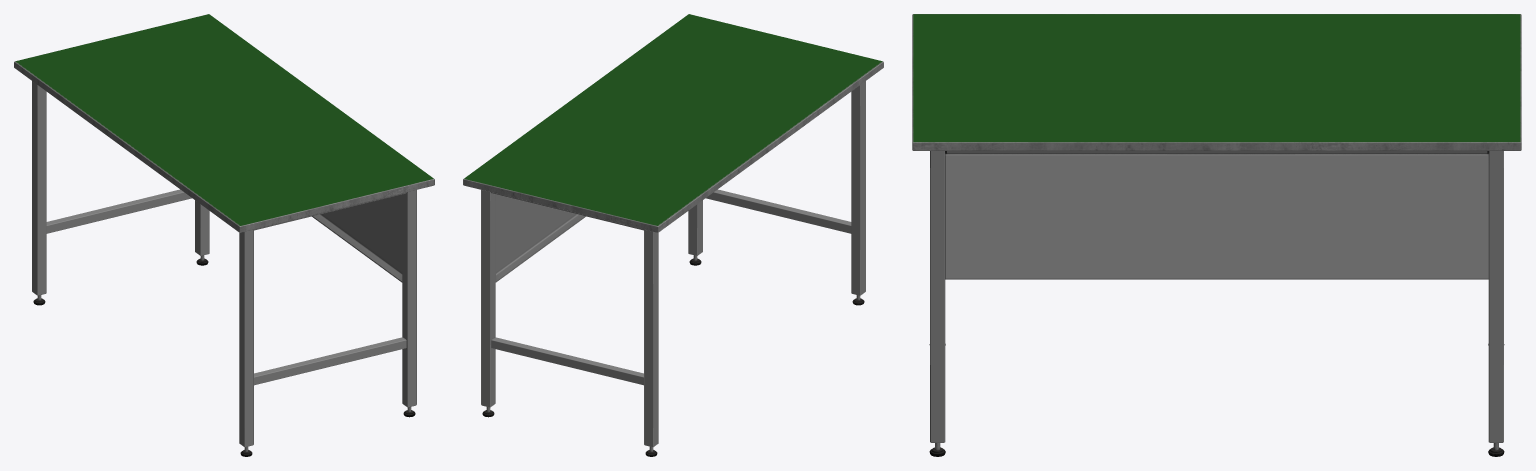
The model's file is SM_Workdesk_01_1200mm.fbx.
The picture shows the model from 3 angles, left to right: view 1: azimuth 30°, elevation 25°; view 2: azimuth 150°, elevation 25°; view 3: azimuth 270°, elevation 25°; orthographic projection. The views are drawn at different scales.
Parts seen in each view (by area): view 1: SM_Workdesk_01_1200mm_LOD0; view 2: SM_Workdesk_01_1200mm_LOD0; view 3: SM_Workdesk_01_1200mm_LOD0.
Part boxes in pixels (x1,y1,x2,y2): SM_Workdesk_01_1200mm_LOD0: (14,14,434,456); SM_Workdesk_01_1200mm_LOD0: (463,14,883,456); SM_Workdesk_01_1200mm_LOD0: (912,14,1521,456).
Bounding box in the file's own units: 60 × 120 × 70.
